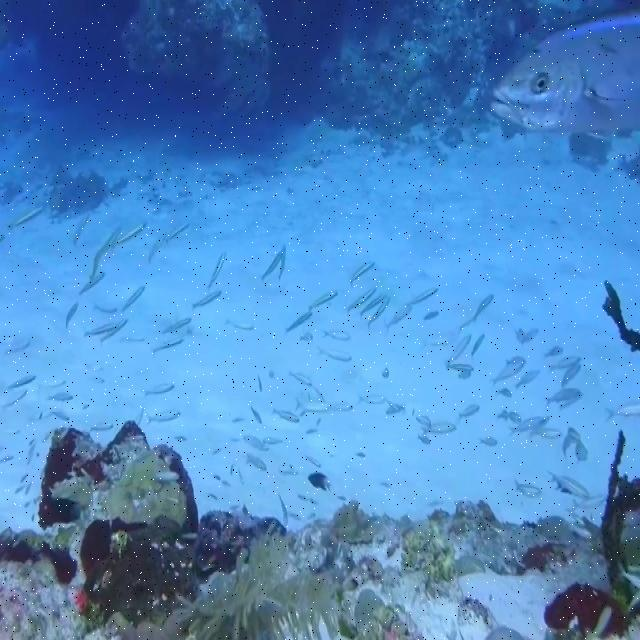aquatic plants: (600, 433, 635, 606), (604, 285, 639, 351)
fish: (490, 9, 639, 132)
sea-floor: (39, 422, 287, 629), (123, 1, 271, 117)
